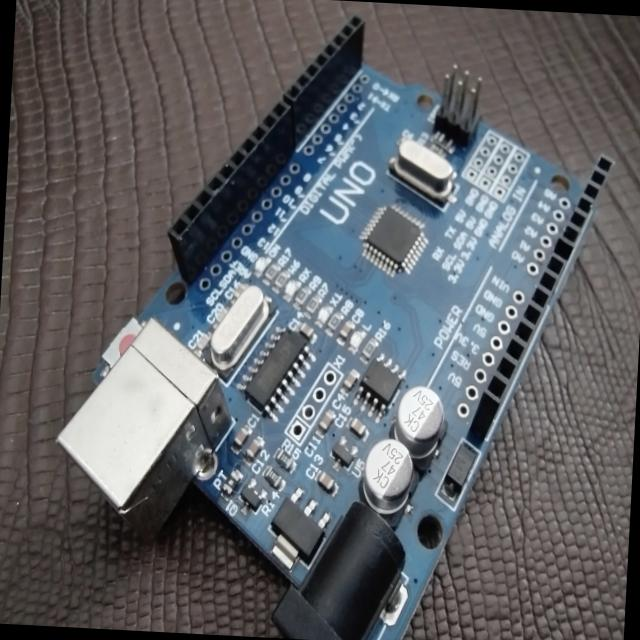arduino: (38, 0, 628, 640)
